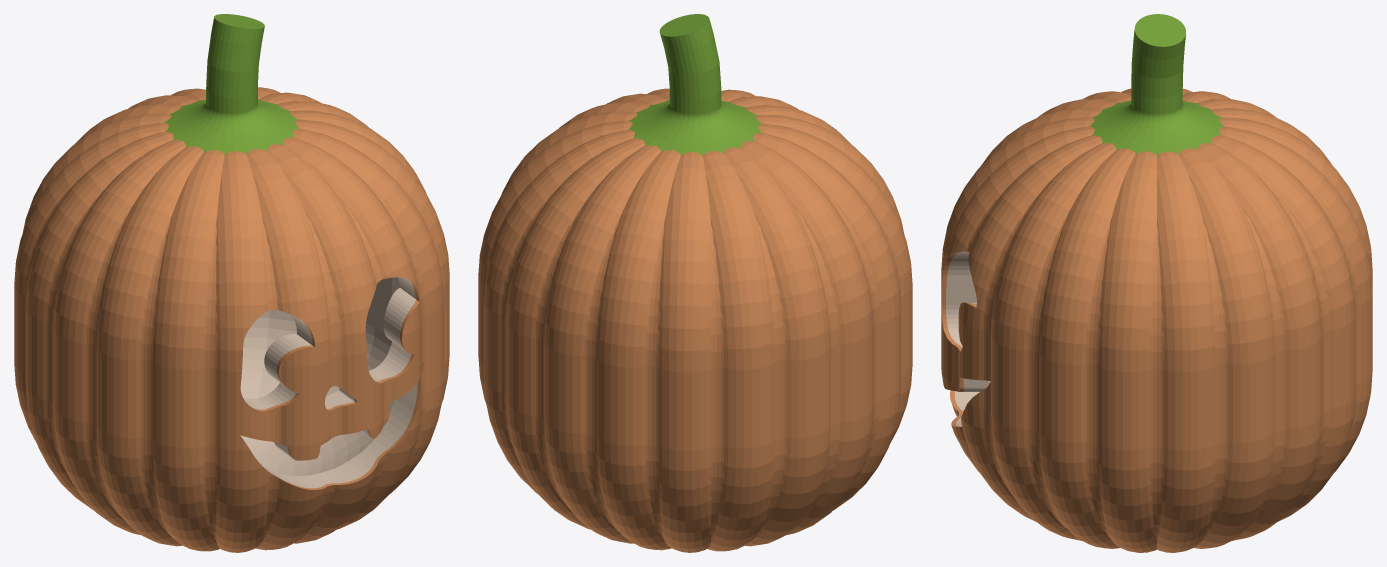
Rendered from Pumpkin.glb.
The picture shows the model from 3 angles, left to right: view 1: azimuth 30°, elevation 25°; view 2: azimuth 150°, elevation 25°; view 3: azimuth 270°, elevation 25°; orthographic projection.
Parts seen in each view (by area): view 1: Mesh_Mesh_head_geo.001_lambert2SG.001; view 2: Mesh_Mesh_head_geo.001_lambert2SG.001; view 3: Mesh_Mesh_head_geo.001_lambert2SG.001.
Boxes of the visible parts, box(x1,y1,x2,y2) form: Mesh_Mesh_head_geo.001_lambert2SG.001: box(14, 14, 449, 552); Mesh_Mesh_head_geo.001_lambert2SG.001: box(478, 14, 912, 552); Mesh_Mesh_head_geo.001_lambert2SG.001: box(941, 14, 1372, 552).
Size of the model in its own units: 100 by 127 by 100.
